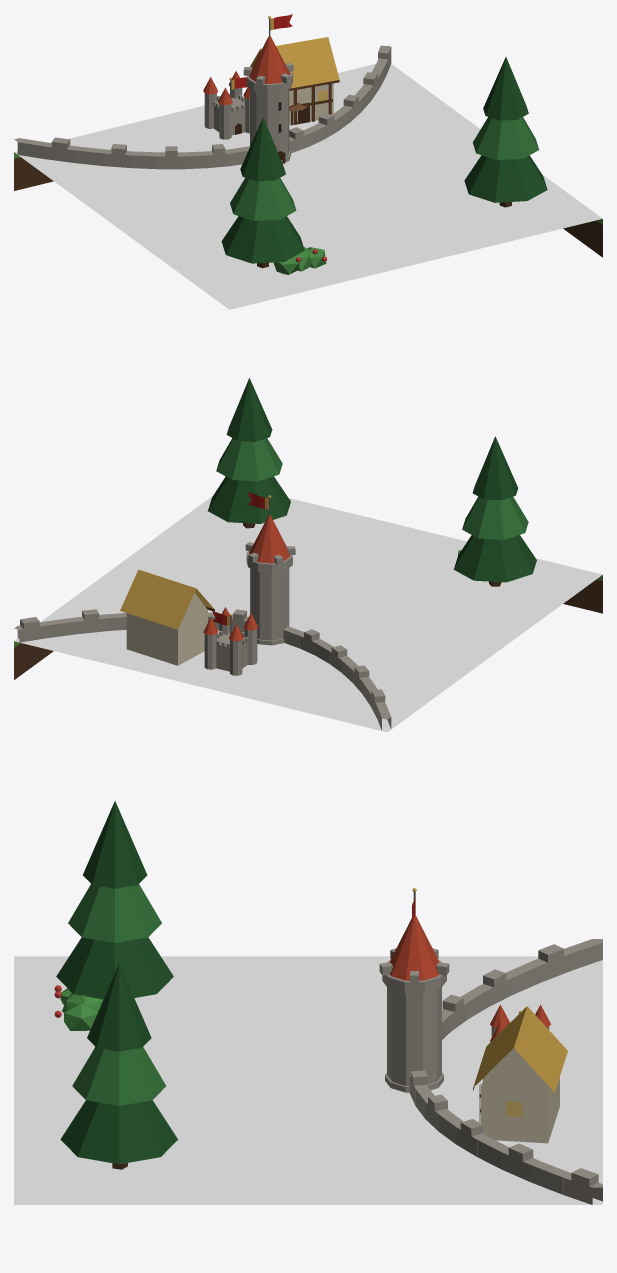
File: xcrrr.glb
3 renders of one model, top to bottom at view 1: azimuth 30°, elevation 25°; view 2: azimuth 150°, elevation 25°; view 3: azimuth 270°, elevation 25°, orthographic. The views are drawn at different scales.
Parts seen in each view (by area): view 1: xcrrr; view 2: xcrrr; view 3: xcrrr.
Part boxes in pixels (box(x1,y1,x2,y2)): xcrrr: box(14, 14, 602, 309); xcrrr: box(14, 378, 602, 732); xcrrr: box(14, 801, 602, 1204).
Size of the model in its own units: 2 by 0.96 by 2.
